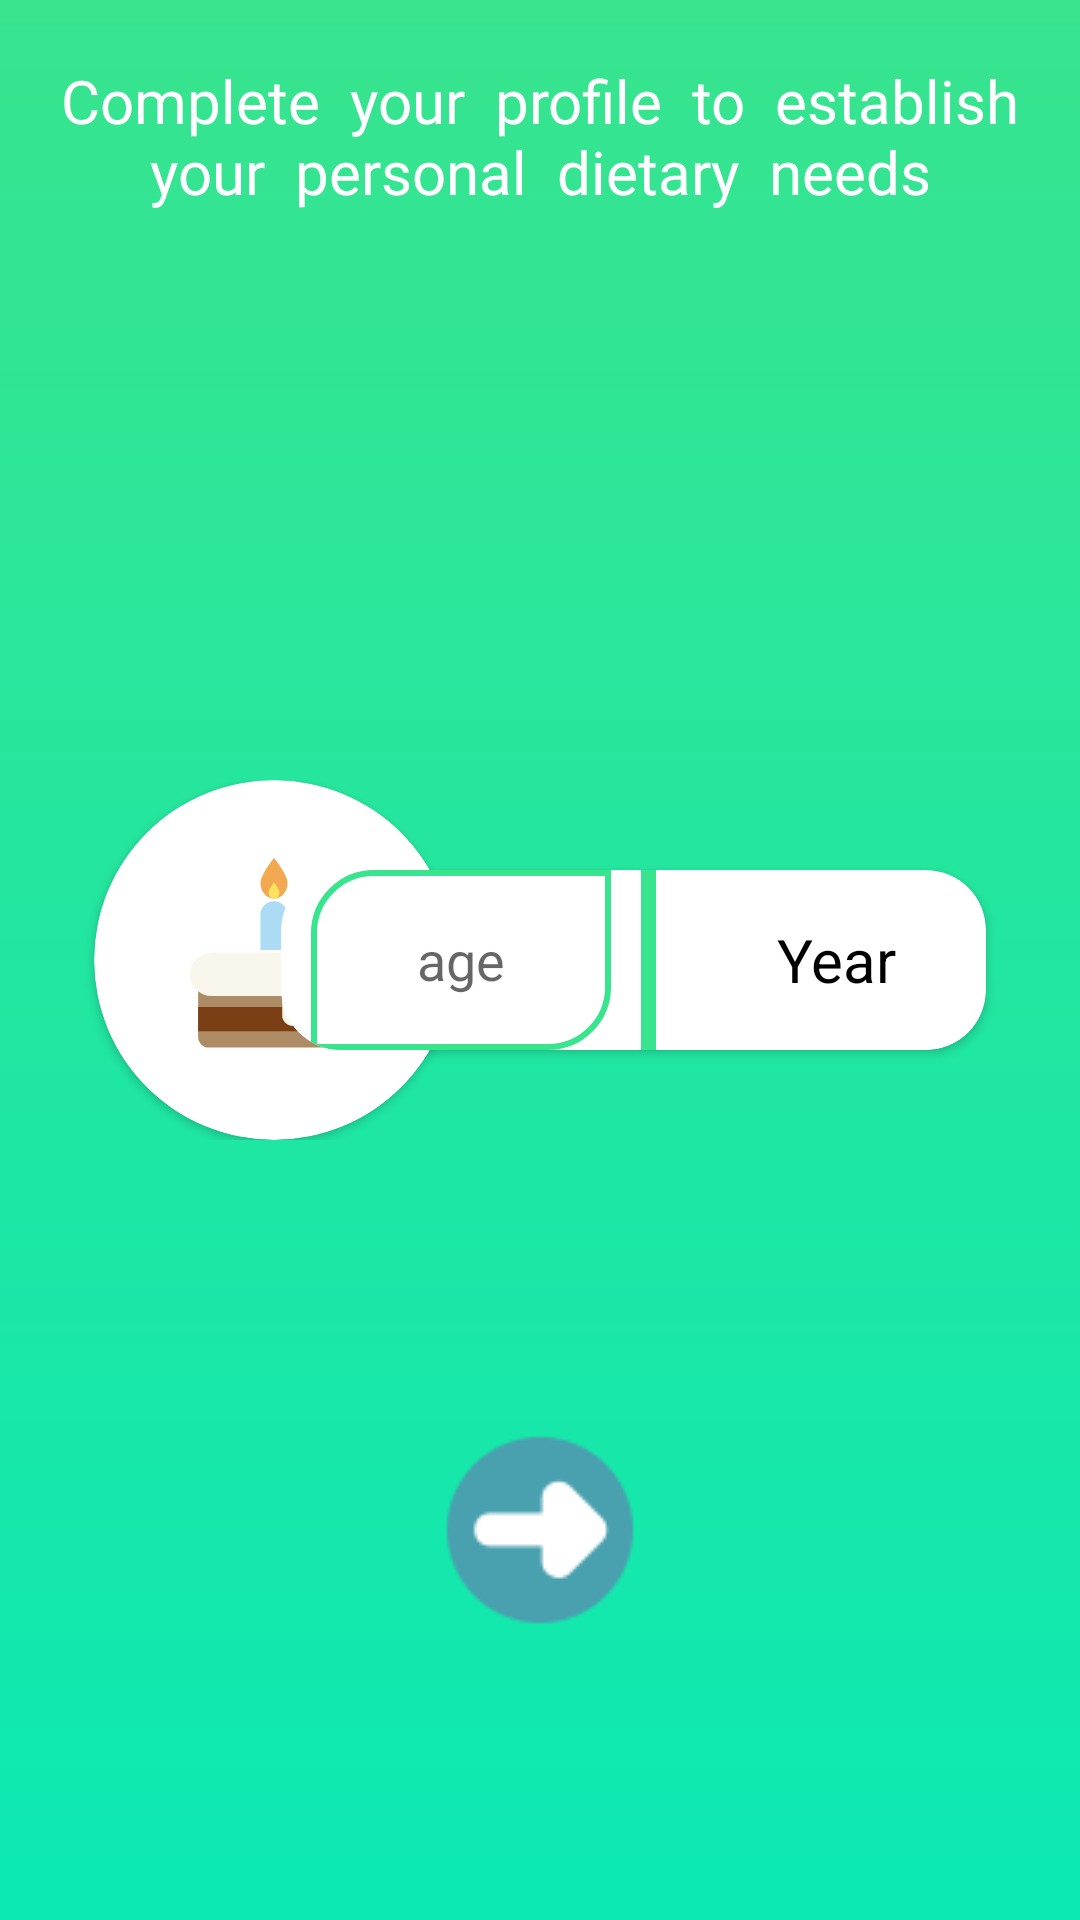

Screen size 1080×1920. Icon name, then its box in pixels as (x1, y1, x2, y2):
arrow: (446, 1436, 634, 1624)
